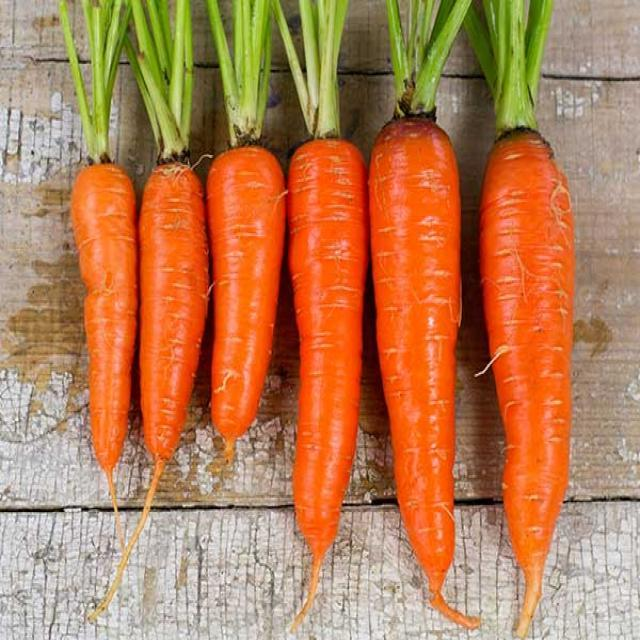carrot: (370, 103, 465, 583), (483, 124, 575, 579), (285, 135, 369, 558), (209, 125, 284, 451), (141, 147, 209, 476), (69, 154, 138, 474)
